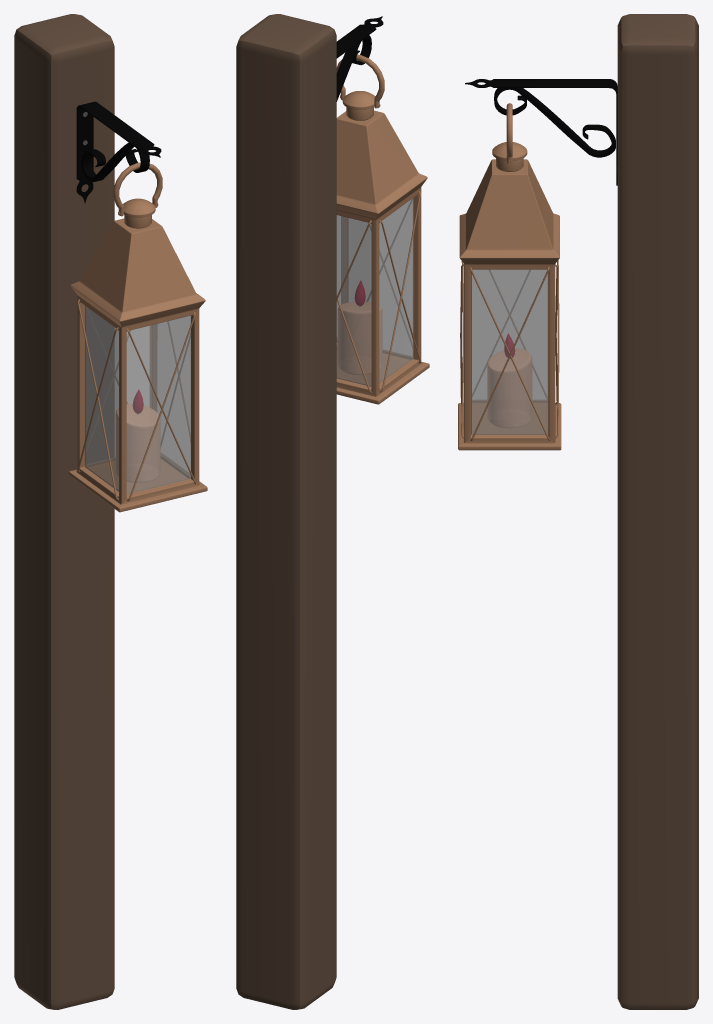
The model's file is lantern_lp+id+ogon.fbx.
3 renders of one model, left to right at view 1: azimuth 30°, elevation 25°; view 2: azimuth 150°, elevation 25°; view 3: azimuth 270°, elevation 25°, orthographic.
Parts seen in each view (by area): view 1: pillar_lp, body_outp_lp1, polySurface2, polySurface5, candl_lp, support_2_lp, body_in_lp, support_1_lp, ring_lp, pCylinder_lp, lattice_3_1_hp, lattice_3_2_hp; view 2: pillar_lp, body_outp_lp1, polySurface3, polySurface5, candl_lp, body_in_lp, support_1_lp, support_2_lp, pCylinder_lp, ring_lp, lattice_3_2_hp; view 3: pillar_lp, body_outp_lp1, polySurface4, candl_lp, body_in_lp, support_1_lp, support_2_lp.
Part boxes in pixels (x1,y1,x2,y2): pillar_lp: [14, 14, 114, 1009]; body_outp_lp1: [68, 218, 207, 512]; polySurface2: [127, 316, 190, 493]; polySurface5: [85, 306, 118, 490]; candl_lp: [116, 404, 160, 482]; support_2_lp: [76, 101, 161, 203]; body_in_lp: [86, 325, 190, 494]; support_1_lp: [81, 142, 149, 182]; ring_lp: [113, 162, 162, 216]; pCylinder_lp: [123, 198, 155, 217]; lattice_3_1_hp: [77, 299, 118, 500]; lattice_3_2_hp: [127, 312, 195, 501]; pillar_lp: [236, 14, 336, 1009]; body_outp_lp1: [336, 110, 429, 404]; polySurface3: [337, 215, 371, 385]; polySurface5: [379, 198, 412, 382]; candl_lp: [338, 302, 382, 374]; body_in_lp: [337, 217, 412, 386]; support_1_lp: [336, 35, 371, 101]; support_2_lp: [336, 16, 383, 58]; pCylinder_lp: [342, 91, 375, 109]; ring_lp: [336, 54, 384, 108]; lattice_3_2_hp: [380, 191, 420, 392]; pillar_lp: [617, 14, 698, 1009]; body_outp_lp1: [458, 159, 561, 450]; polySurface4: [472, 270, 547, 433]; candl_lp: [487, 349, 531, 427]; body_in_lp: [471, 272, 548, 434]; support_1_lp: [494, 88, 615, 157]; support_2_lp: [465, 79, 617, 185].
Bounding box in the file's own units: 18.9 × 196 × 44.06.
